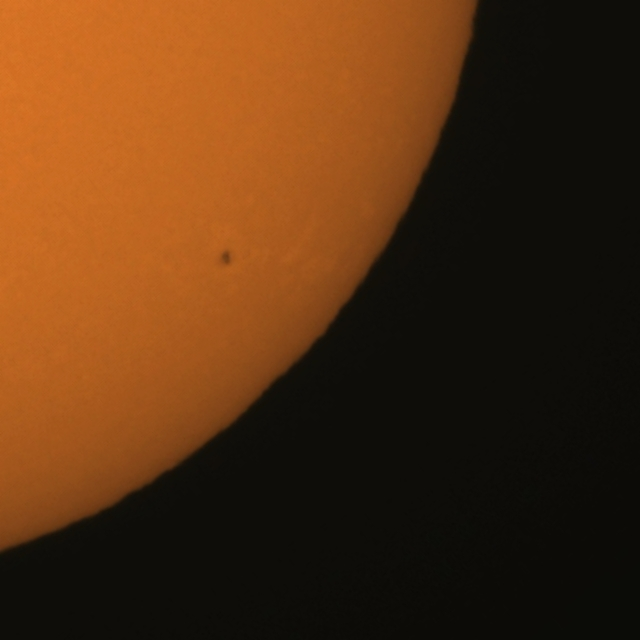sunspot: (219, 248, 233, 269)
